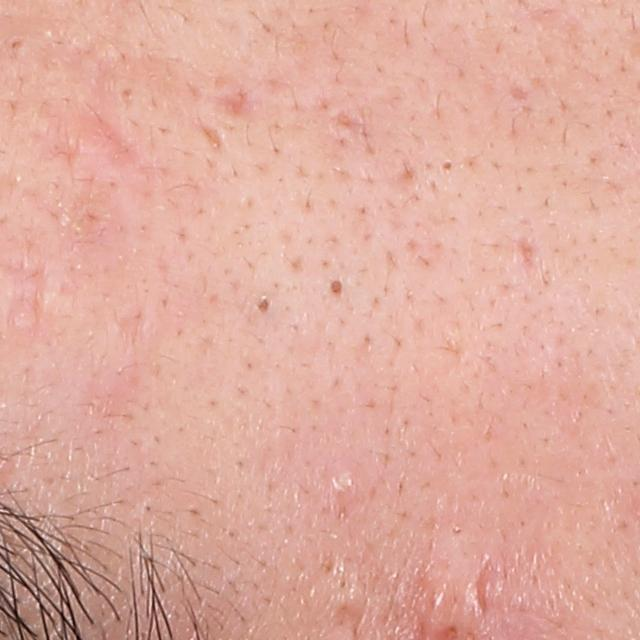atrophic_scar: (5, 263, 49, 344), (210, 87, 255, 124), (469, 553, 492, 623), (197, 118, 232, 157), (514, 235, 543, 273), (509, 81, 535, 102)
comedo: (326, 275, 346, 299), (253, 293, 271, 316), (439, 159, 453, 172)
